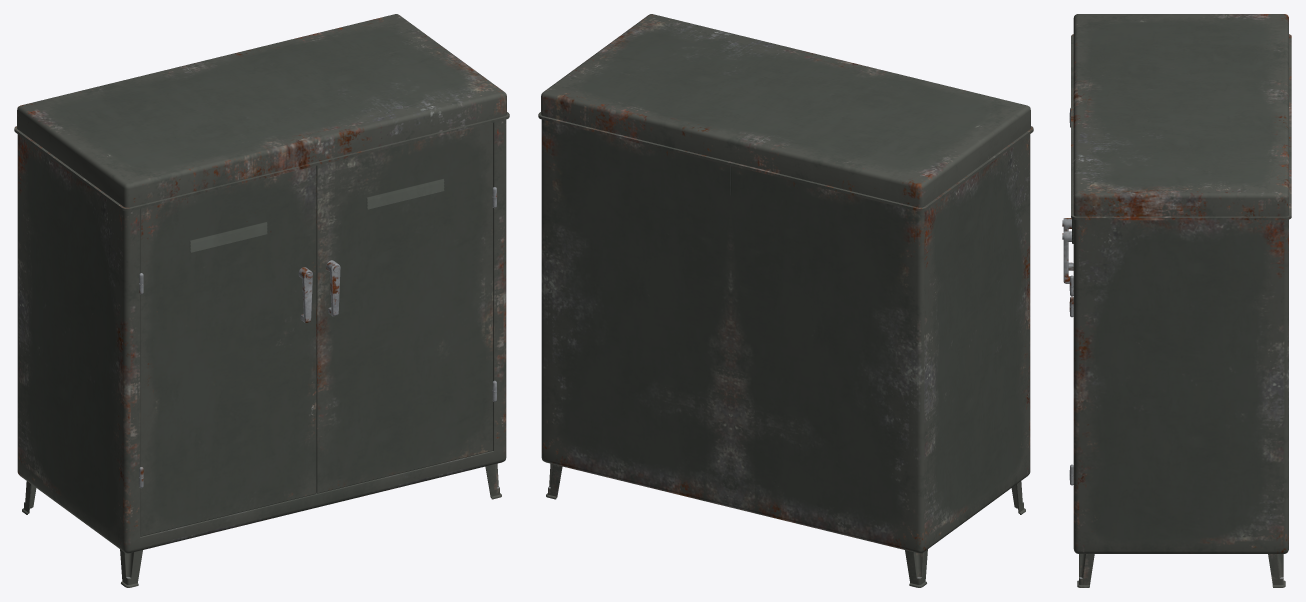
Rendered from metal_cabinet.glb.
The picture shows the model from 3 angles, left to right: view 1: azimuth 30°, elevation 25°; view 2: azimuth 150°, elevation 25°; view 3: azimuth 270°, elevation 25°; orthographic projection. The views are drawn at different scales.
Visible parts, largest first — view 1: porta.001, porta.002, tapa.001, base.001, potes.001; view 2: base.001, tapa.001, potes.001; view 3: base.001, tapa.001, potes.001, nansa.002.
Part boxes in pixels (bbox=[...]): porta.001: bbox=[316, 123, 493, 493]; porta.002: bbox=[140, 166, 316, 536]; tapa.001: bbox=[14, 14, 509, 211]; base.001: bbox=[17, 119, 506, 553]; potes.001: bbox=[22, 463, 501, 587]; base.001: bbox=[541, 119, 1030, 553]; tapa.001: bbox=[538, 14, 1033, 211]; potes.001: bbox=[546, 463, 1025, 587]; base.001: bbox=[1073, 219, 1288, 553]; tapa.001: bbox=[1071, 14, 1291, 220]; potes.001: bbox=[1077, 554, 1285, 587]; nansa.002: bbox=[1062, 231, 1071, 283].
Size of the model in its own units: 0.81 by 0.8088 by 0.4263.
Materials: 1 (1 with a texture image).
